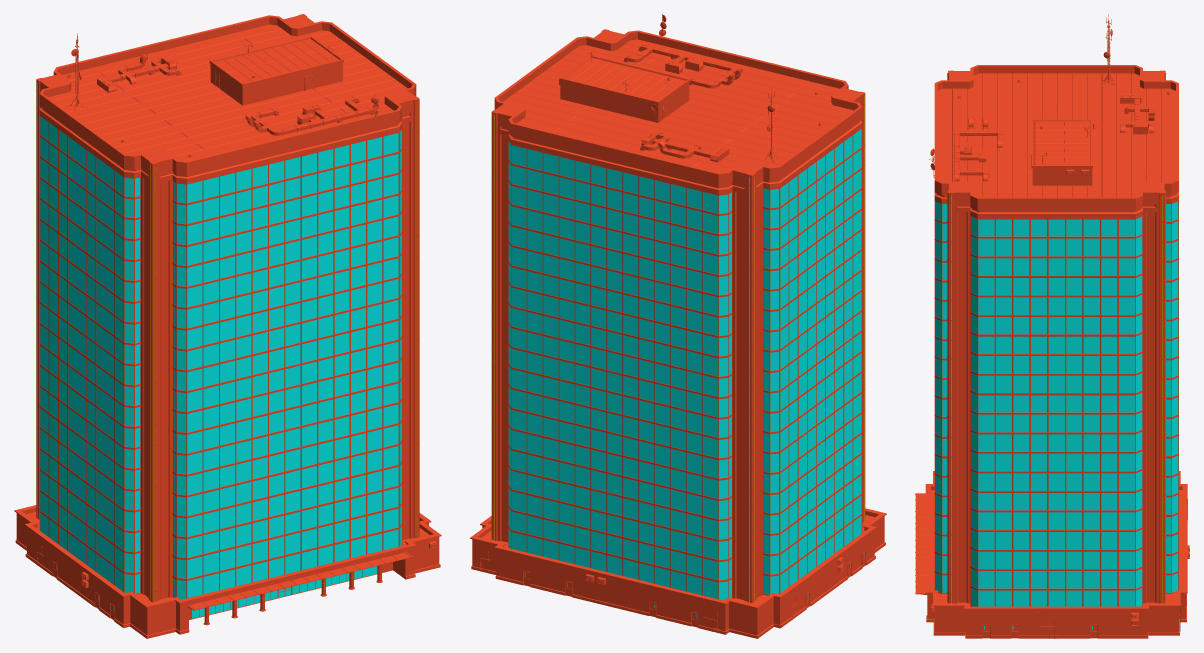
Rendered from SM_Skyscraper_A_City.fbx.
The picture shows the model from 3 angles, left to right: view 1: azimuth 30°, elevation 25°; view 2: azimuth 150°, elevation 25°; view 3: azimuth 270°, elevation 25°; orthographic projection. The views are drawn at different scales.
Visible parts, largest first — view 1: SM_Skyscraper_A_City; view 2: SM_Skyscraper_A_City; view 3: SM_Skyscraper_A_City.
Part boxes in pixels (<box>): SM_Skyscraper_A_City: <box>14,14,441,638</box>; SM_Skyscraper_A_City: <box>470,14,886,638</box>; SM_Skyscraper_A_City: <box>915,14,1189,638</box>.
Size of the model in its own units: 46.94 by 76.45 by 38.21.
